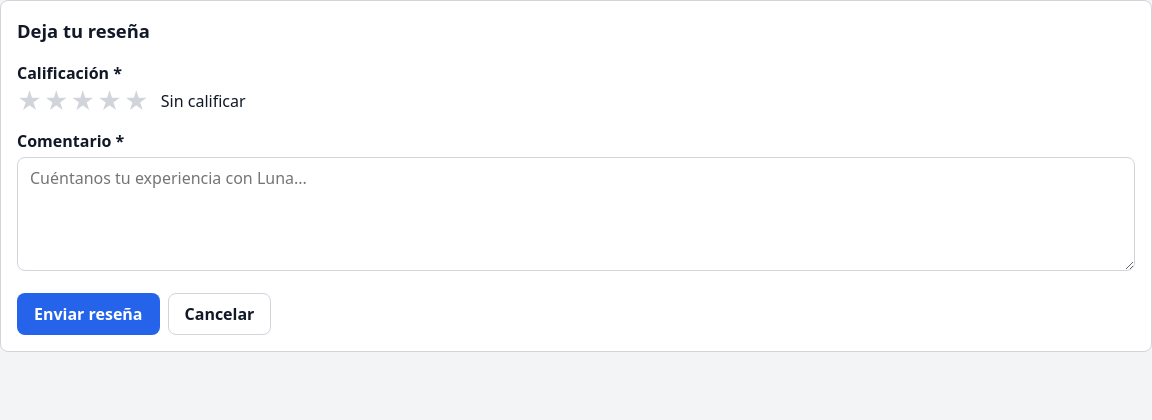
Test: ReviewForm › shows validation errors and does not submit an empty form
What coordinates should you click on to do the following:
click the button "Enviar reseña"
I would click on:
 (88, 314)
Its box is [17,293,160,335].
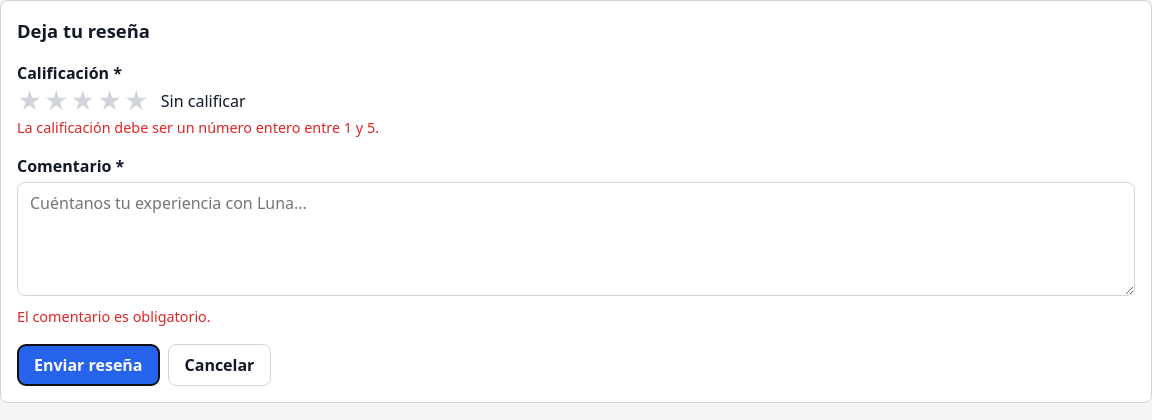
Result: the text "La calificación debe ser un número entero entre 1 y 5." is shown at [17,118,379,137]
Result: the text "El comentario es obligatorio." is shown at [17,307,211,326]
